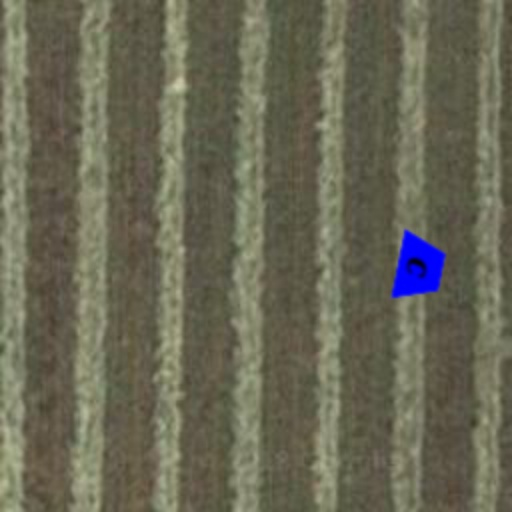trapezoid: (376, 224, 464, 312)
